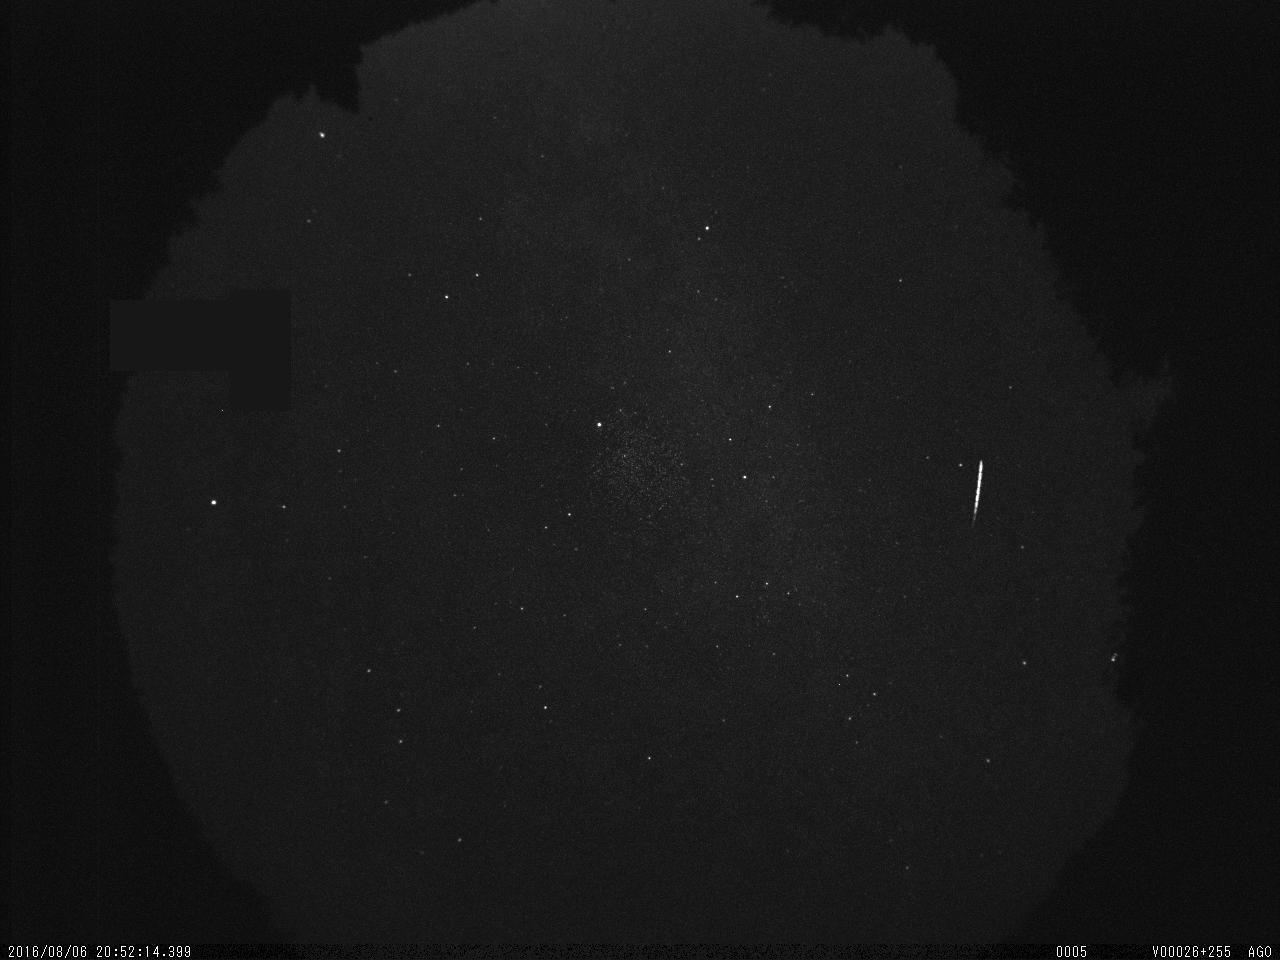meteor: (942, 437, 1024, 536)
